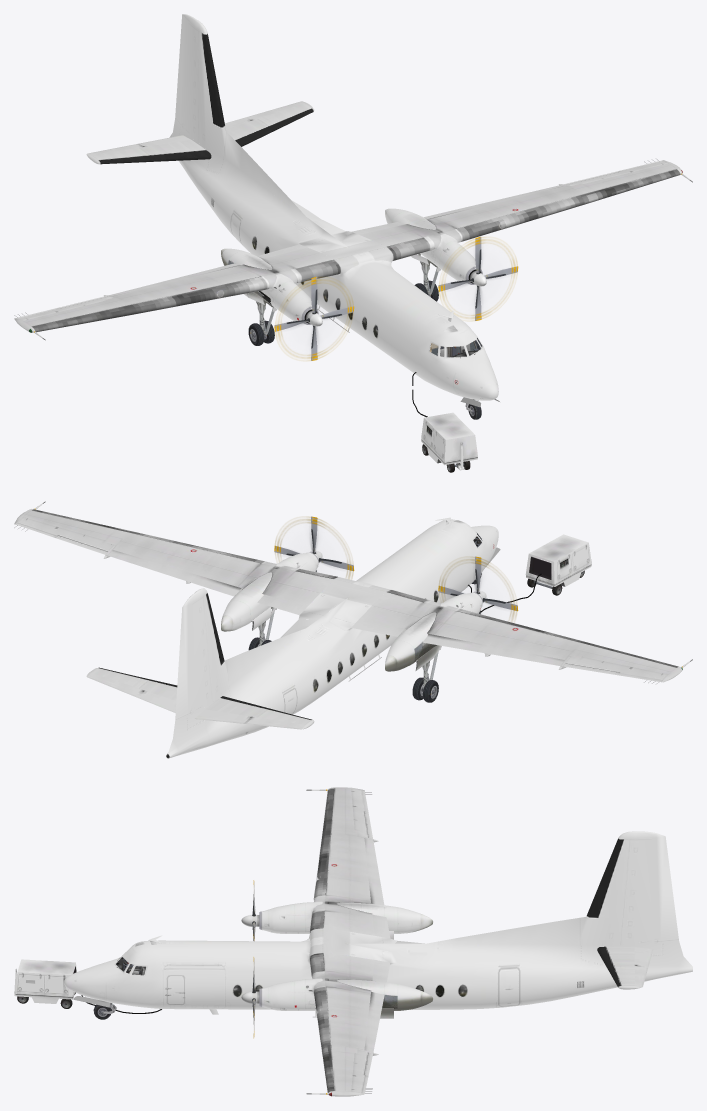
File: f27-white-vc-v2.glb
3 renders of one model, top to bottom at view 1: azimuth 30°, elevation 25°; view 2: azimuth 150°, elevation 25°; view 3: azimuth 270°, elevation 25°, orthographic. The views are drawn at different scales.
Visible parts, largest first — view 1: x0_FUSELAGE, x0_FUSELAGE_FROST, x0_GPU; view 2: x0_FUSELAGE, x0_GPU, x0_FUSELAGE_FROST, x0_FLAPS_Leftout, x0_FLAPS_RightOut, x0_AILERON_Left, x0_AILERON_Right, GEAR_Right_Tire, x0_FLAPS_RightIn, x0_FLAPS_LeftIn; view 3: x0_FUSELAGE, x0_FUSELAGE_FROST, x0_GPU, x0_FLAPS_RightOut, x0_FLAPS_Leftout, x0_AILERON_Right, x0_AILERON_Left.
Part boxes in pixels (x1,y1,x2,y2): x0_FUSELAGE: [14, 14, 692, 400]; x0_FUSELAGE_FROST: [31, 169, 680, 331]; x0_GPU: [421, 412, 477, 472]; x0_FUSELAGE: [14, 501, 692, 758]; x0_GPU: [525, 534, 591, 595]; x0_FUSELAGE_FROST: [31, 509, 678, 667]; x0_FLAPS_Leftout: [108, 550, 242, 596]; x0_FLAPS_RightOut: [422, 634, 564, 665]; x0_AILERON_Left: [18, 517, 112, 551]; x0_AILERON_Right: [566, 656, 667, 680]; GEAR_Right_Tire: [412, 677, 438, 702]; x0_FLAPS_RightIn: [351, 619, 406, 636]; x0_FLAPS_LeftIn: [257, 594, 307, 615]; x0_FUSELAGE: [64, 787, 692, 1096]; x0_FUSELAGE_FROST: [309, 788, 334, 1092]; x0_GPU: [14, 959, 76, 1008]; x0_FLAPS_RightOut: [364, 838, 384, 904]; x0_FLAPS_Leftout: [364, 992, 384, 1052]; x0_AILERON_Right: [351, 789, 368, 837]; x0_AILERON_Left: [351, 1050, 368, 1093].
Size of what is drawn, in the model's own units: 28.92 by 8.57 by 26.96.
59 materials, 51 textured.
